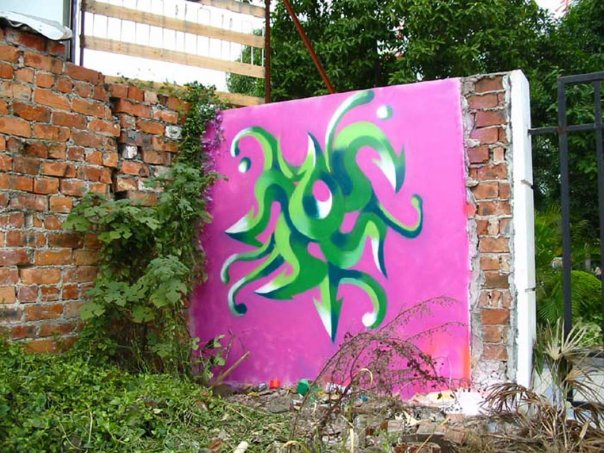graffity: (185, 71, 474, 384)
